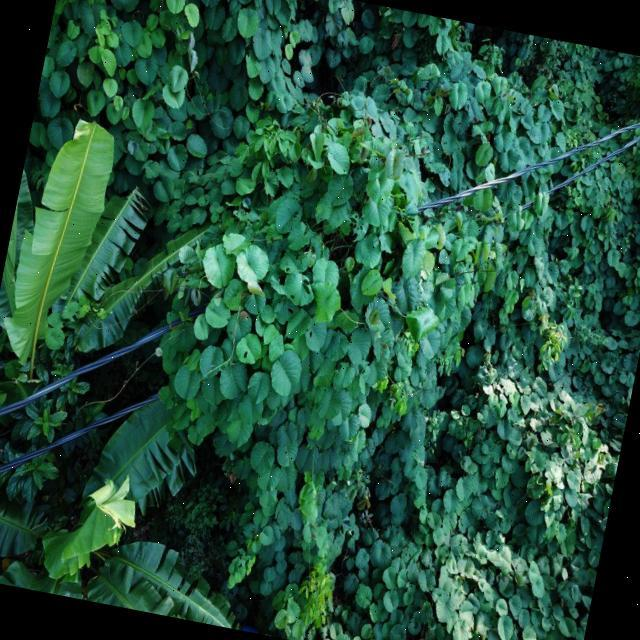critical vegetation: (122, 105, 520, 507)
